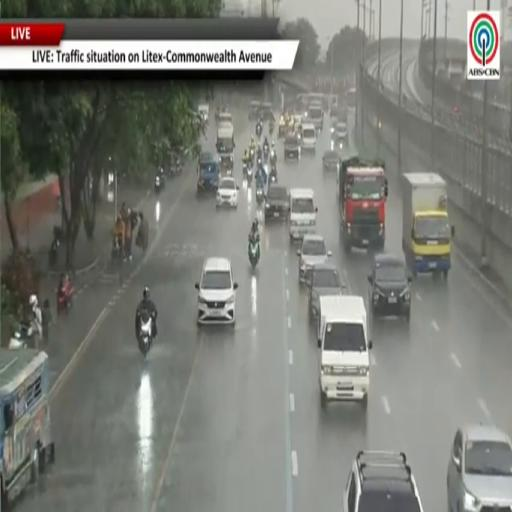bus: (346, 88, 356, 108)
car: (447, 425, 511, 511), (342, 452, 422, 511), (368, 253, 411, 321), (196, 258, 238, 325), (308, 262, 346, 319), (297, 234, 331, 282), (216, 178, 239, 207), (284, 135, 300, 159), (322, 150, 339, 170), (333, 122, 348, 141), (249, 101, 260, 121), (198, 104, 209, 123), (261, 103, 272, 121)
motorcycle: (138, 312, 153, 357), (9, 322, 34, 348), (49, 226, 63, 268), (57, 281, 73, 313), (249, 236, 260, 268), (111, 237, 124, 264), (49, 238, 59, 268), (168, 157, 182, 177), (155, 171, 165, 194), (256, 186, 264, 204), (246, 166, 253, 184), (263, 144, 269, 162), (270, 150, 276, 168), (270, 169, 277, 184), (256, 122, 262, 138), (269, 120, 274, 135), (243, 163, 247, 178), (250, 149, 254, 163), (257, 156, 261, 168)
truck: (0, 348, 54, 509), (402, 173, 454, 279), (337, 156, 387, 252), (216, 122, 235, 174), (197, 152, 219, 196), (265, 184, 289, 222), (307, 102, 323, 133)
